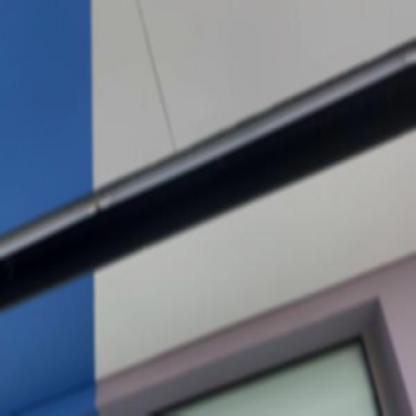light_off: (2, 30, 414, 309)
